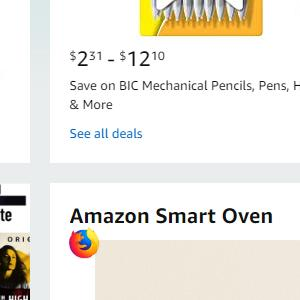firefox: (69, 227, 99, 258)
